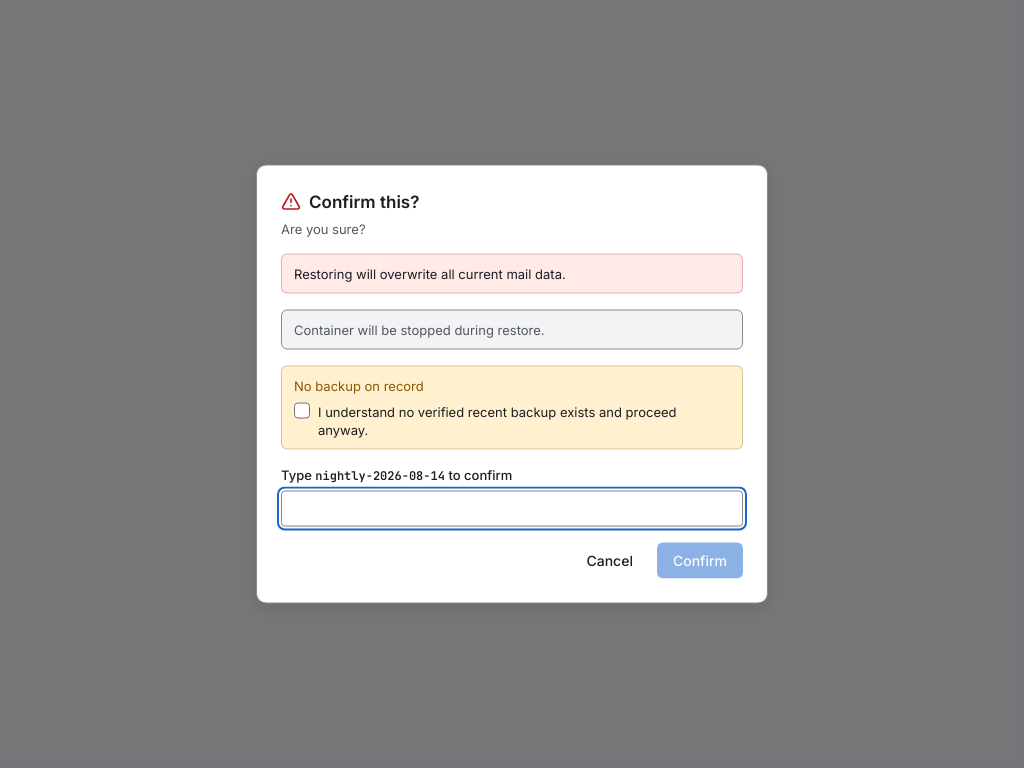
Test: ConfirmDialog — tier 4 (type-to-confirm + preflight + backup gate) › requires the acknowledgement checkbox, in addition to typing, when no verified backup exists
Type "nightly-2026-08-14" into the field.
click(512, 508); type("nightly-2026-08-14")  # box [281,490,743,526]
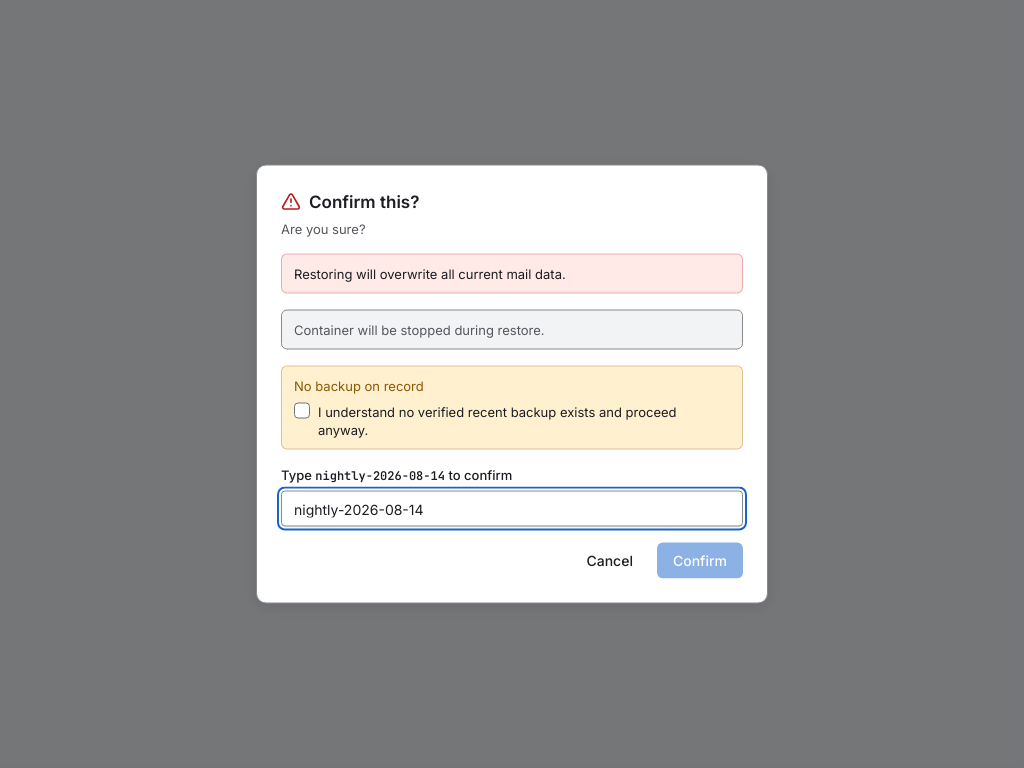
Expected: the button "Confirm" is disabled, [657,542,743,578]
Click the checkbox.
click(302, 410)  # box [294,402,310,418]
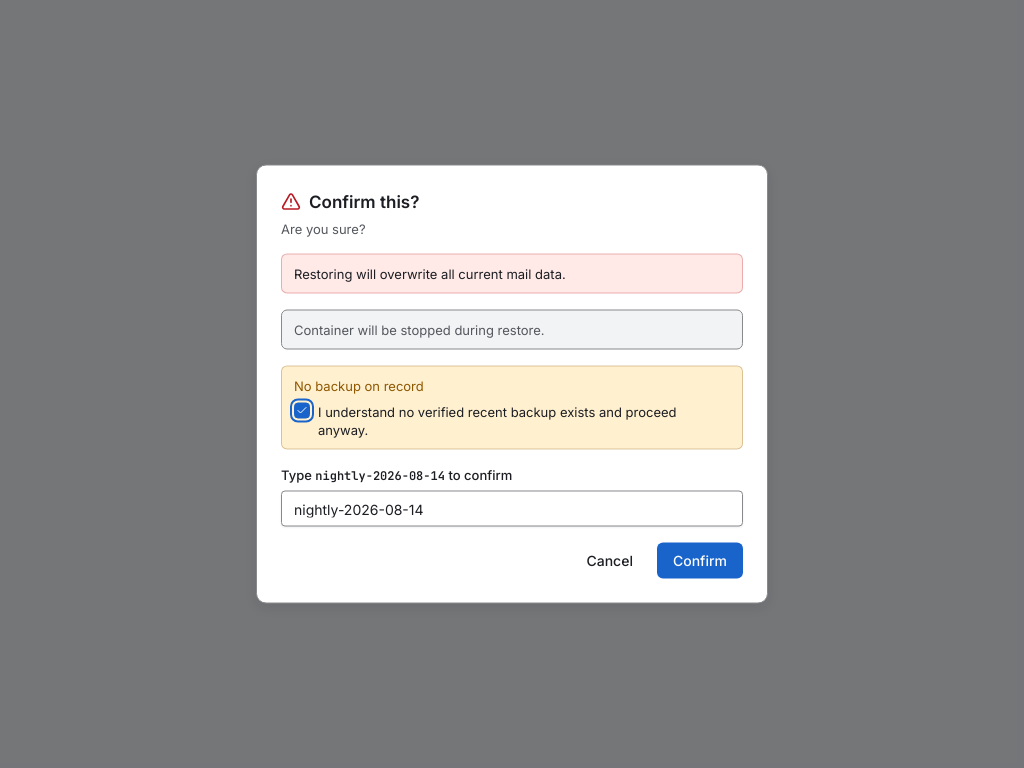
Result: the button "Confirm" is enabled at [657,542,743,578]
